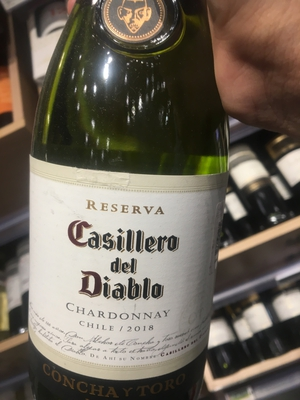casillero del diablo chardonnay: (30, 10, 232, 400)
